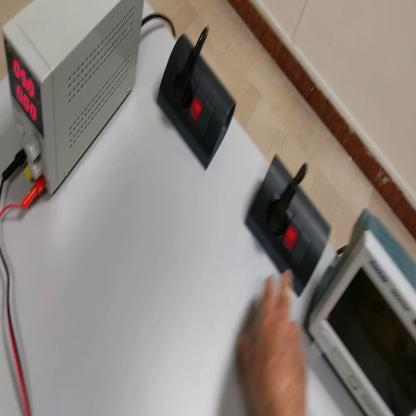hand: (240, 267, 308, 415)
oscilloscope: (307, 214, 416, 416)
power supply: (3, 3, 145, 206)
socket: (248, 153, 336, 298), (157, 33, 237, 172)
